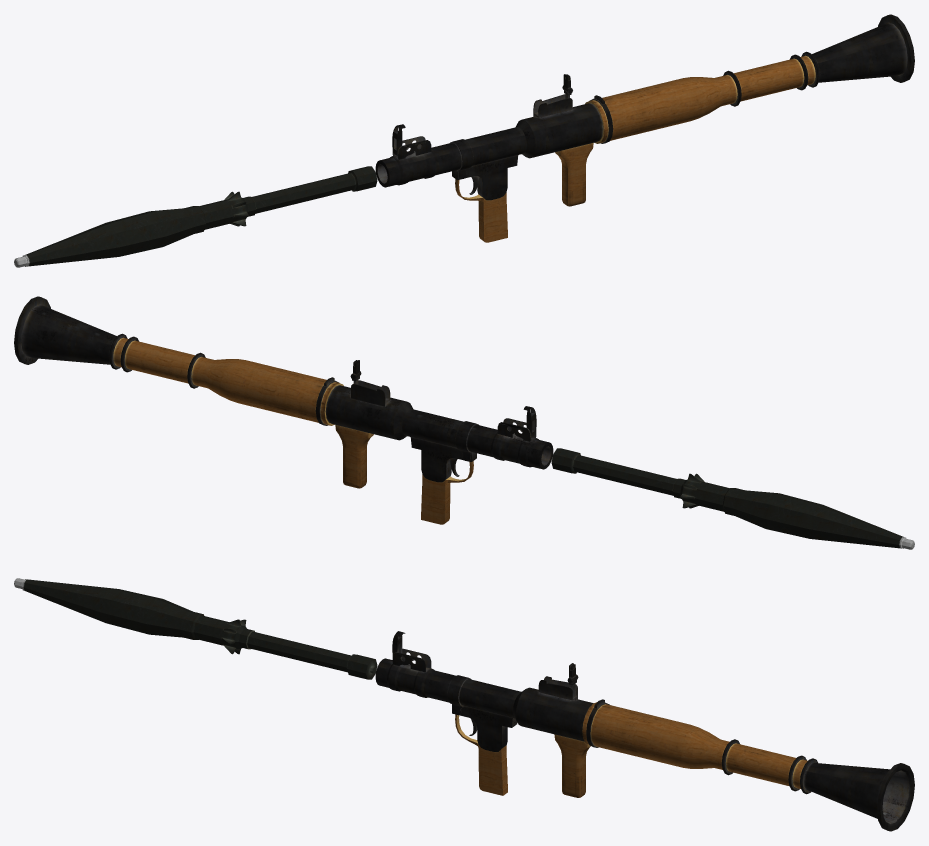
The model's file is rpg.glb.
The picture shows the model from 3 angles, top to bottom: view 1: azimuth 30°, elevation 25°; view 2: azimuth 150°, elevation 25°; view 3: azimuth 330°, elevation 25°; orthographic projection.
Visible parts, largest first — view 1: RPG; view 2: RPG; view 3: RPG.
Boxes of the visible parts, <box> form: RPG: <box>14,14,914,267</box>; RPG: <box>14,296,914,549</box>; RPG: <box>14,578,914,831</box>.
Size of the model in its own units: 2.39 by 0.3712 by 0.1628.
Materials: 1 (1 with a texture image).
